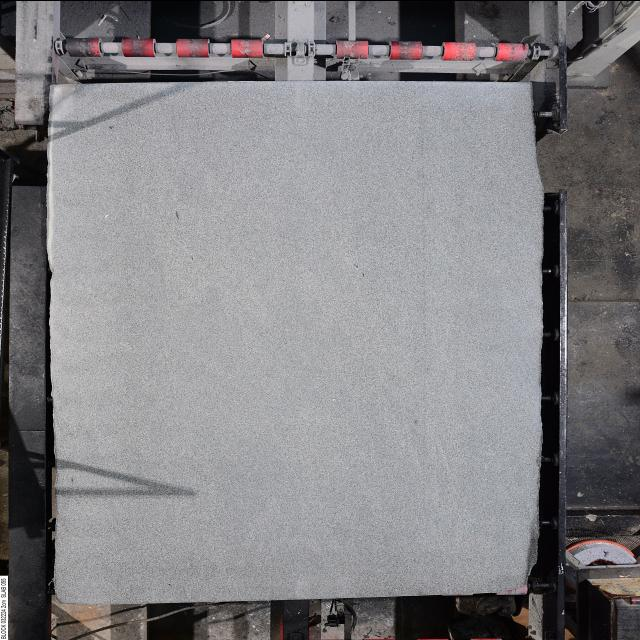chapa: (49, 80, 544, 602)
